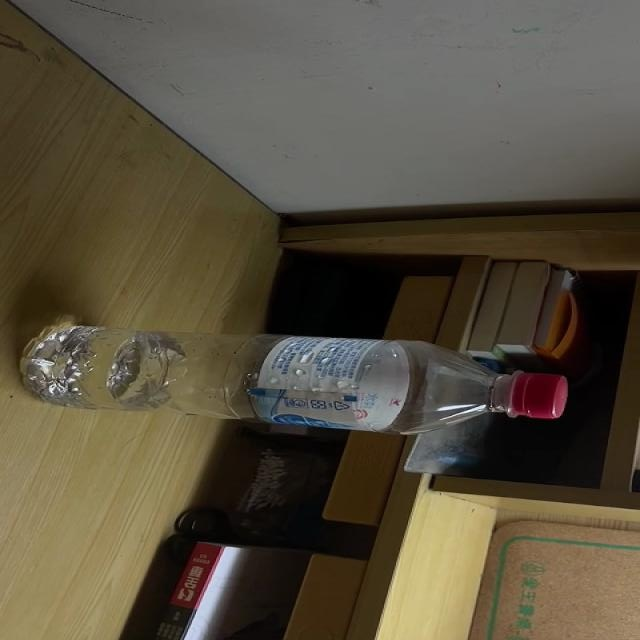Water: (20, 326, 570, 434)
